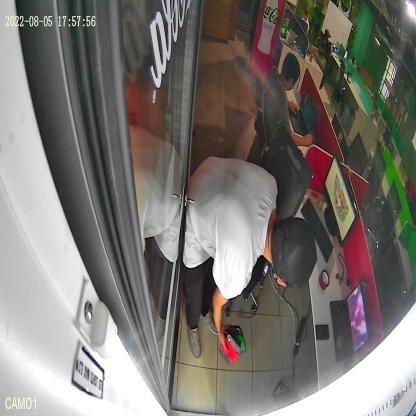green: (226, 326, 246, 353)
red: (220, 332, 240, 365)
